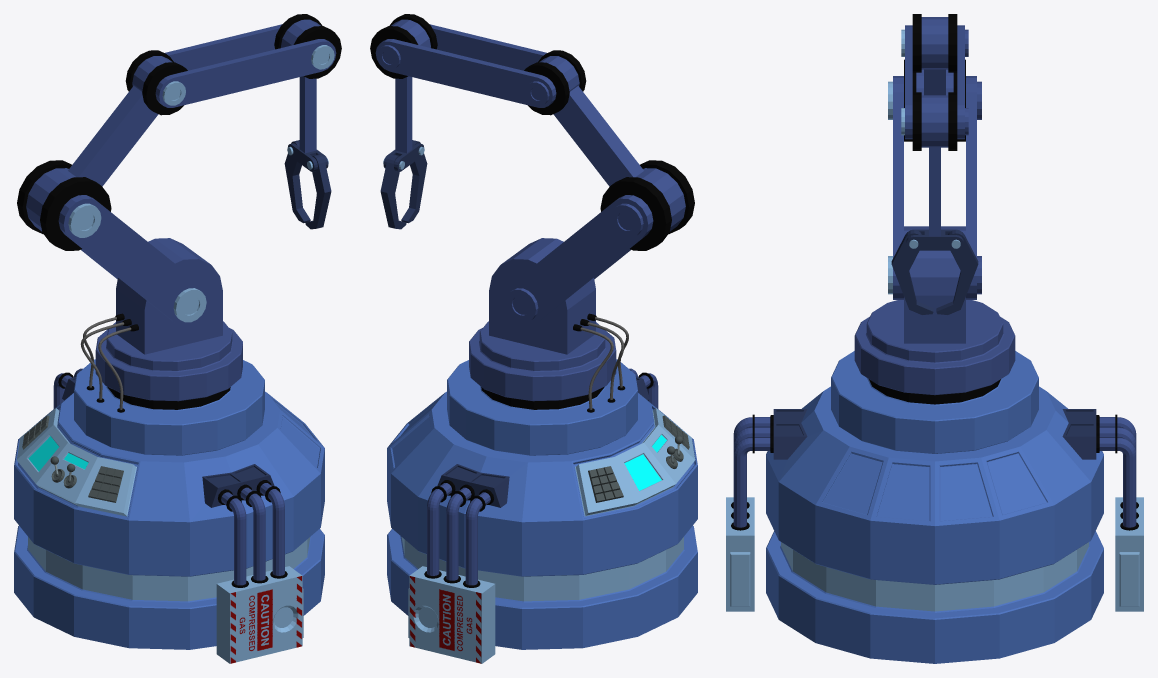
The model's file is M3_Style_B_Light.fbx.
The picture shows the model from 3 angles, left to right: view 1: azimuth 30°, elevation 25°; view 2: azimuth 150°, elevation 25°; view 3: azimuth 270°, elevation 25°; orthographic projection. The views are drawn at different scales.
Visible parts, largest first — view 1: M3; view 2: M3; view 3: M3.
Part boxes in pixels (box(x1,y1,x2,y2)): M3: box(14, 14, 341, 663); M3: box(370, 14, 697, 663); M3: box(726, 14, 1143, 663).
Size of the model in its own units: 342 by 575 by 382.
